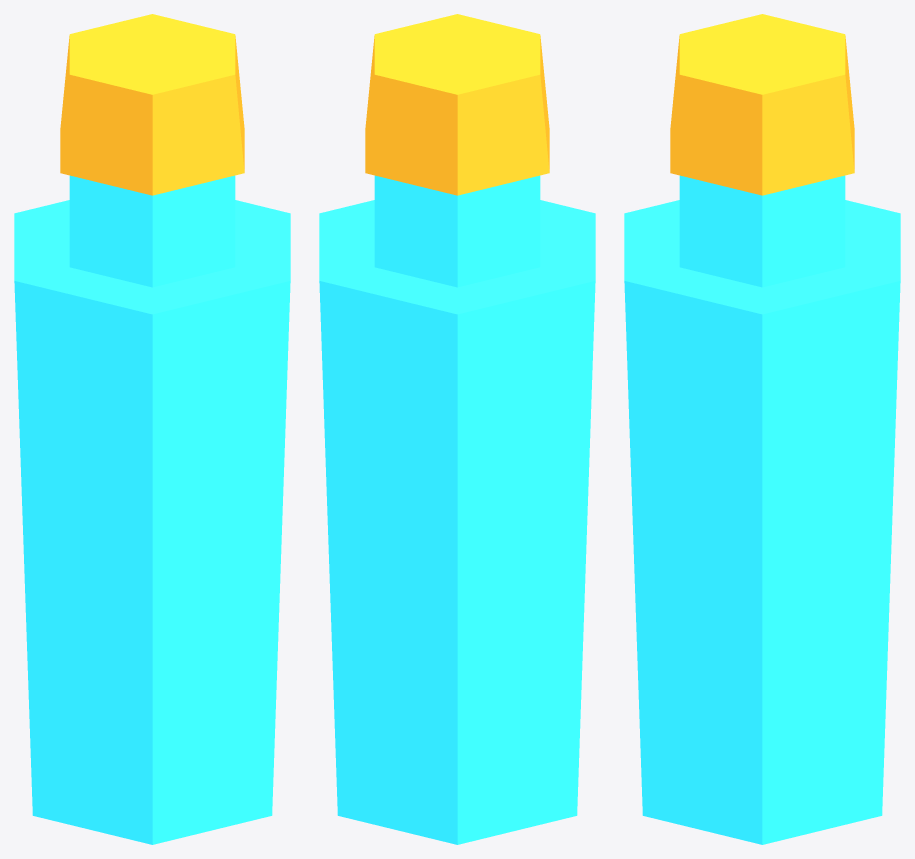
Rendered from holy_water.glb.
3 renders of one model, left to right at view 1: azimuth 30°, elevation 25°; view 2: azimuth 150°, elevation 25°; view 3: azimuth 270°, elevation 25°, orthographic.
Visible parts, largest first — view 1: holy_water; view 2: holy_water; view 3: holy_water.
Boxes of the visible parts, box(x1,y1,x2,y2) form: holy_water: box(14, 14, 290, 844); holy_water: box(319, 14, 595, 844); holy_water: box(624, 14, 900, 844).
Bounding box in the file's own units: 0.2437 × 0.6175 × 0.2111.
